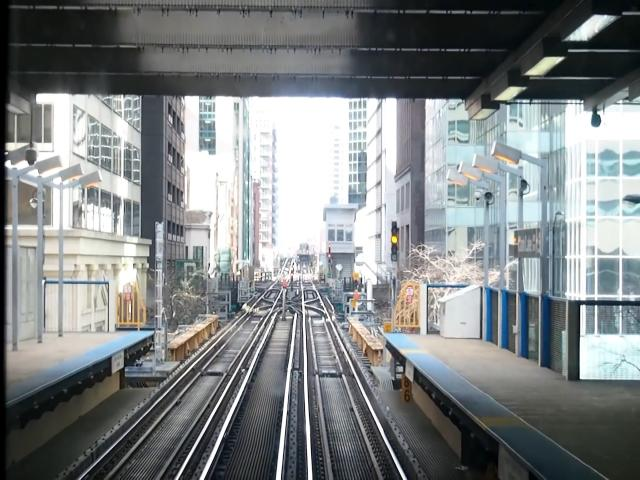signal light: (391, 222, 401, 266)
